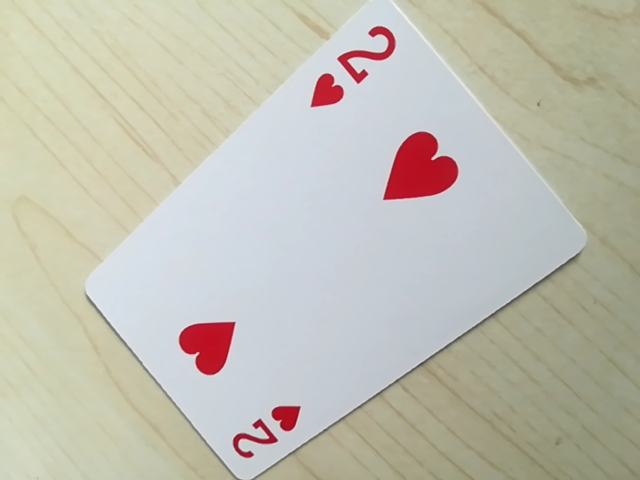hx 2: (307, 18, 401, 114), (222, 403, 308, 471)
